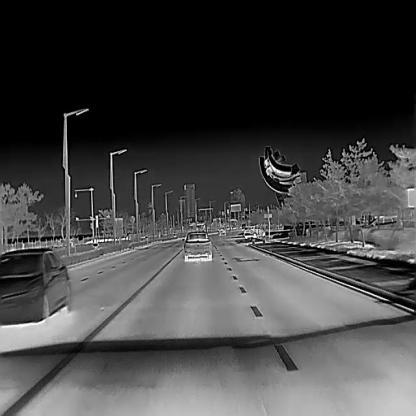car: (0, 247, 71, 325), (181, 230, 211, 260), (372, 214, 402, 226), (243, 225, 265, 238), (219, 226, 226, 234)
